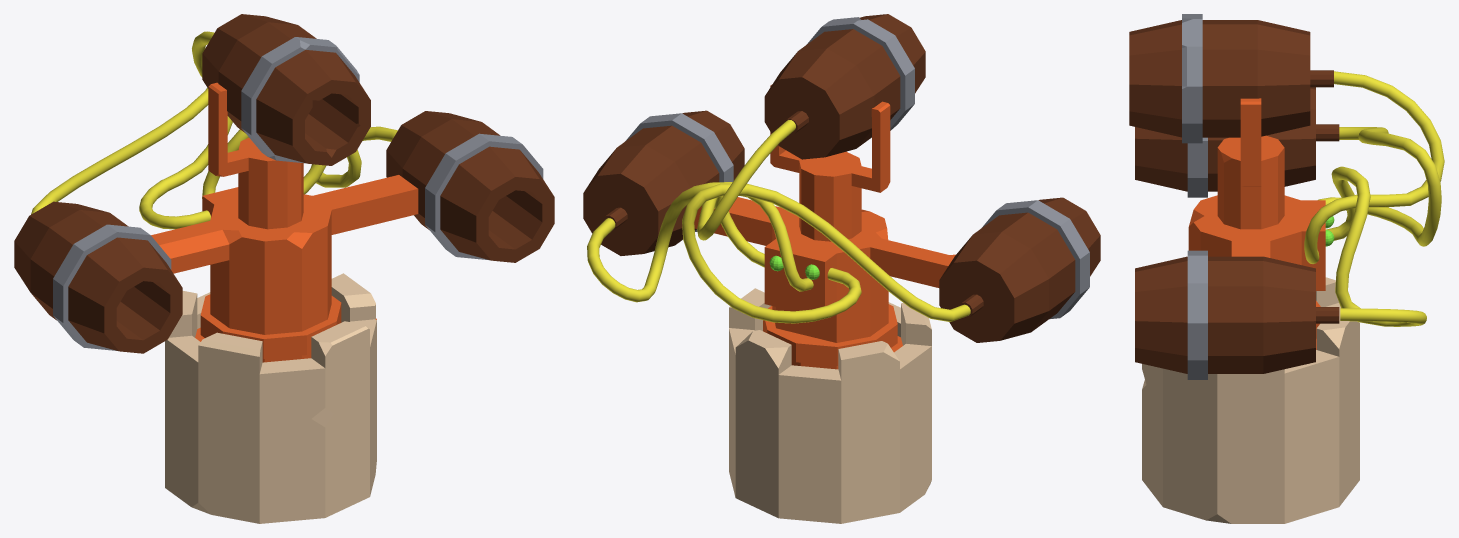
Rendered from BubbleCanon2 2.fbx.
3 views of the same model, side by side, from view 1: azimuth 30°, elevation 25°; view 2: azimuth 150°, elevation 25°; view 3: azimuth 270°, elevation 25° (orthographic). The views are drawn at different scales.
Visible parts, largest first — view 1: Tower, CanonLeft, CanonTop, CanonRight, CabelLeft, CabelRight, CabelTop; view 2: Tower, CanonLeft, CanonTop, CanonRight, CabelLeft, CabelRight, CabelTop; view 3: Tower, CanonRight, CanonTop, CanonLeft, CabelRight, CabelTop, CabelLeft.
Boxes of the visible parts, x1,y1,x2,y2 form: Tower: (151,82,418,523); CanonLeft: (14,201,182,353); CanonTop: (202,14,370,165); CanonRight: (386,111,554,262); CabelLeft: (31,87,232,229); CabelRight: (202,126,397,198); CabelTop: (192,31,325,194); Tower: (694,84,955,523); CanonLeft: (939,197,1100,342); CanonTop: (764,14,925,159); CanonRight: (583,110,744,255); CabelLeft: (682,183,970,323); CabelRight: (587,182,813,302); CabelTop: (697,120,795,267); Tower: (1142,98,1359,523); CanonRight: (1135,250,1339,379); CanonTop: (1129,14,1333,143); CanonLeft: (1135,87,1339,197); CabelRight: (1326,166,1426,326); CabelTop: (1304,71,1444,263); CabelLeft: (1318,127,1441,246).
Size of the model in its own units: 227 by 208 by 129.
